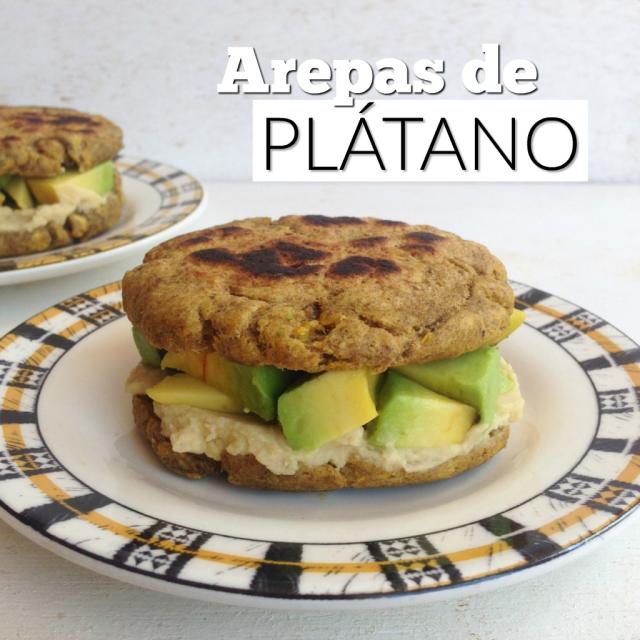aguacate: (110, 337, 549, 451)
arepa: (120, 195, 524, 359)
